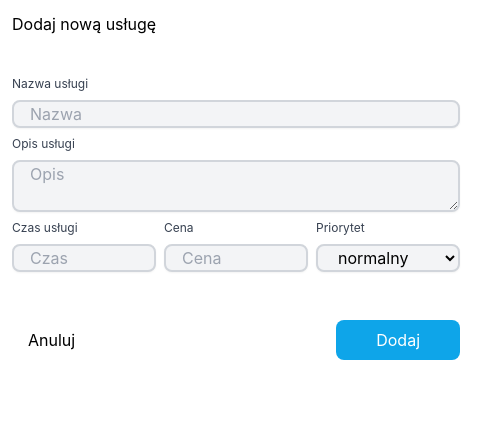
Test case: AddProductsForm › should display required error when value is invalid
The image size is (477, 425).
What coordinates should you click on to do the following:
click the button "Dodaj"
I would click on:
 (398, 340)
Its box is [336, 320, 460, 360].
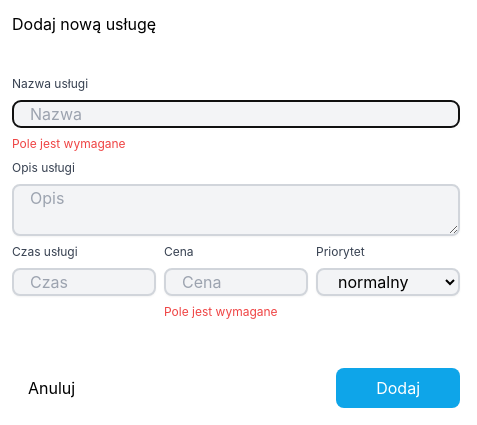
Expected: the number of messages is 2, [12, 136, 126, 151]; [164, 304, 278, 319]
